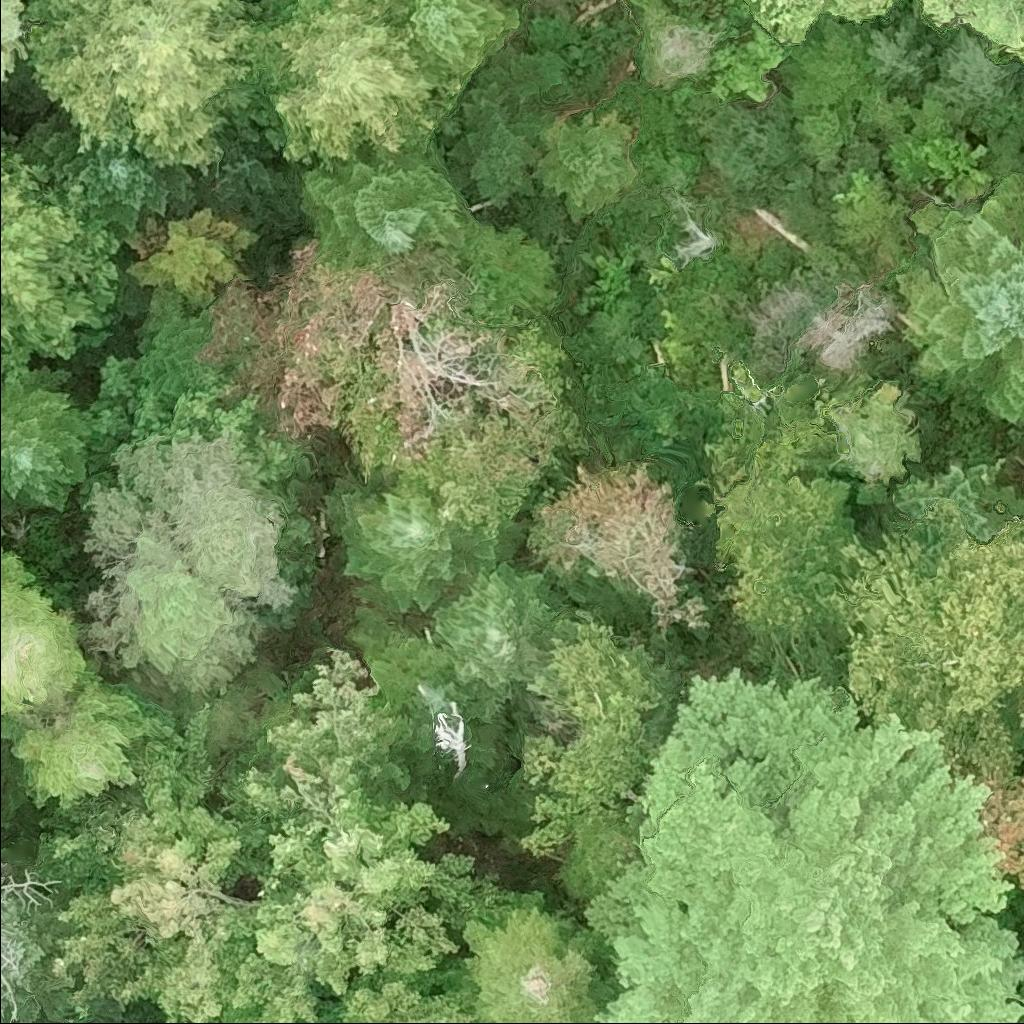crown: (585, 659, 1023, 1023), (201, 241, 596, 538), (206, 639, 523, 1001), (28, 701, 323, 1023), (834, 502, 1023, 764), (80, 472, 265, 709), (22, 0, 278, 171), (514, 612, 687, 859), (518, 455, 713, 639), (712, 449, 862, 683), (113, 426, 299, 614), (251, 0, 450, 172), (896, 170, 1023, 433), (320, 470, 531, 620), (0, 126, 122, 382), (1, 674, 183, 818), (20, 108, 209, 235), (294, 143, 480, 272), (440, 893, 619, 1023), (427, 559, 585, 692), (0, 525, 90, 749), (429, 44, 544, 208), (401, 0, 520, 131), (120, 205, 263, 310), (0, 366, 96, 513), (195, 127, 310, 234), (531, 111, 639, 223), (891, 458, 1023, 547), (317, 961, 473, 1023), (132, 303, 215, 404), (736, 0, 898, 48), (948, 0, 1023, 72), (0, 0, 29, 84), (919, 0, 959, 29), (1010, 679, 1023, 745), (621, 0, 650, 8), (1019, 482, 1023, 522)
